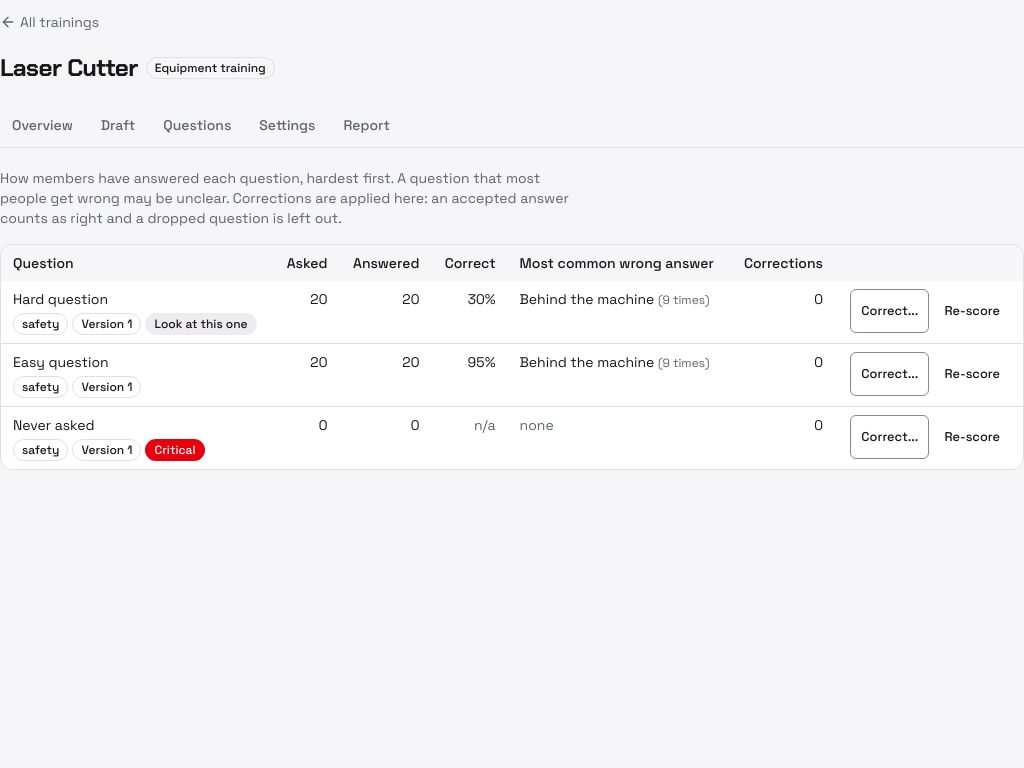
Scenario: QuestionReport corrections › shows earlier corrections of the question
Expected: the heading "Laser Cutter" is shown, [0,52,138,84]
Click the button with aria-label "correct: hard question".
click(890, 311)  # box [850,289,929,333]
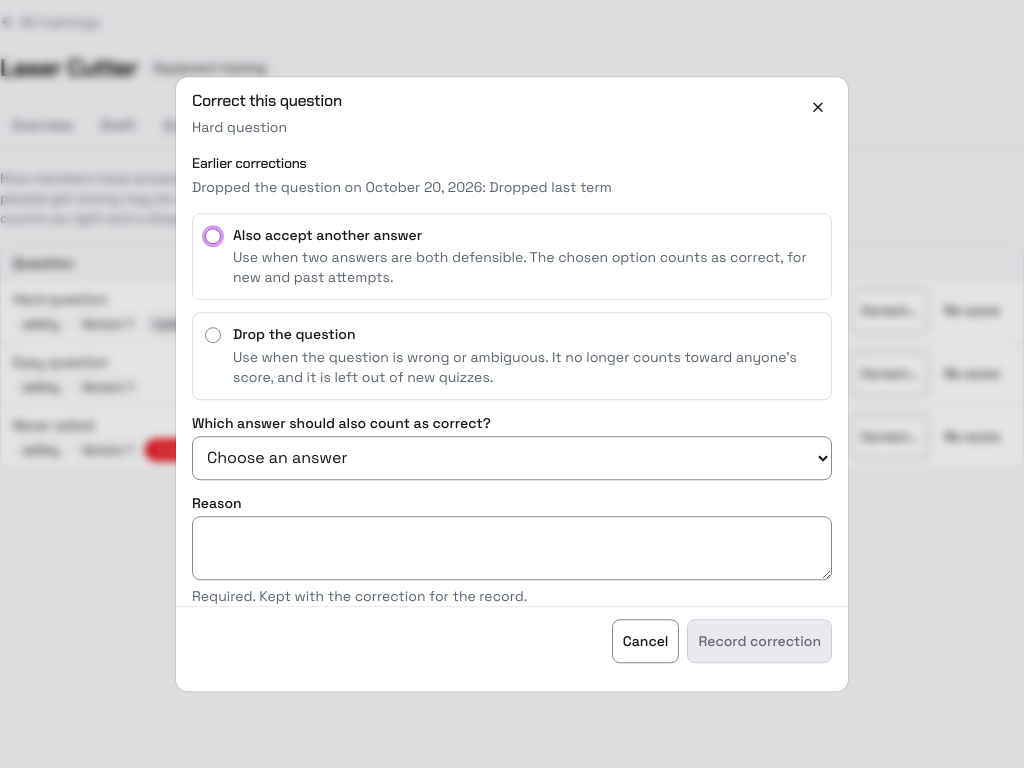
Now the element "Earlier corrections" shows "Dropped the question", box [192,178,341,196]
Now the element "Earlier corrections" shows "Dropped last term", box [489,178,612,196]
